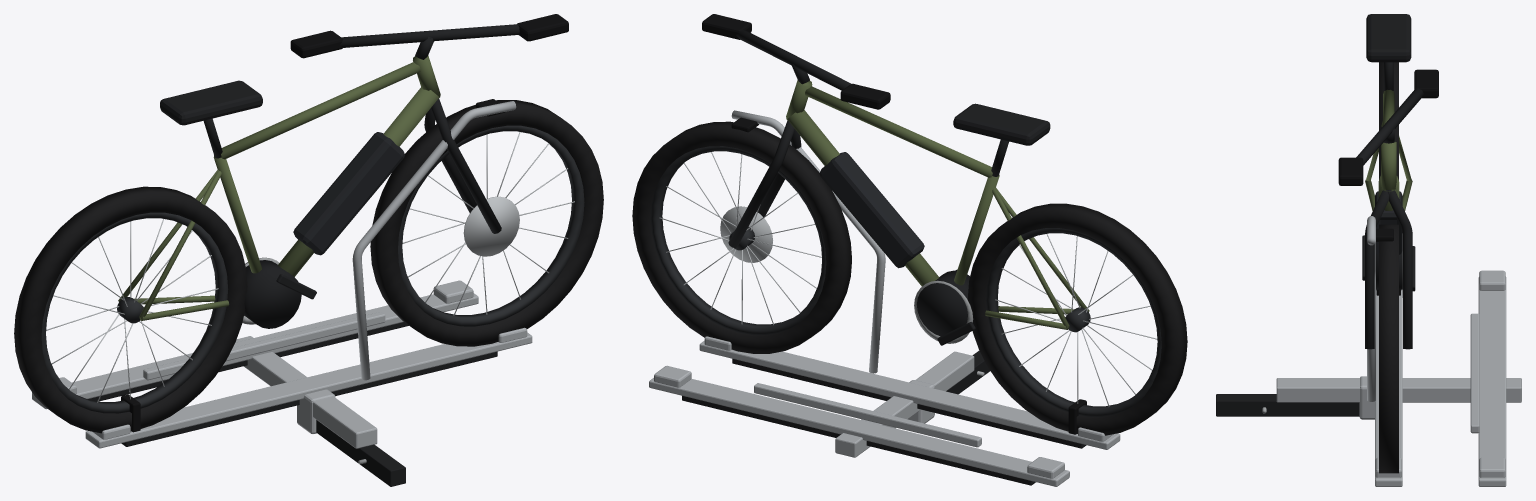
Rendered from carrier_kuat_nv2.glb.
3 views of the same model, side by side, from view 1: azimuth 30°, elevation 25°; view 2: azimuth 150°, elevation 25°; view 3: azimuth 270°, elevation 25° (orthographic). The views are drawn at different scales.
Parts seen in each view (by area): view 1: bike0RTyre.001, bike0FTyre.001, tray0.001, bike0Battery, bike0FRim.001, bike0RRim.001, tray1.001, arm0.001, spine.003, bike0Saddle.001, bike0Motor, bike0Top.001 (+16 smaller); view 2: bike0RTyre.001, bike0FTyre.001, tray1.001, tray0.001, bike0Battery, bike0FRim.001, bike0RRim.001, spine.003, armFolded1.001, bike0Saddle.001, bike0Motor, bike0Top.001 (+16 smaller); view 3: tray1.001, bike0FTyre.001, spine.003, shank.001, bike0Saddle.001, bike0Fork-1.001, tray0.001, bike0Fork1.001, armFolded1.001, bike0Bar.001, arm0.001, bike0RTyre.001 (+8 smaller).
Part boxes in pixels (x1,y1,x2,y2): bike0RTyre.001: (14,186,247,433); bike0FTyre.001: (370,100,603,346); tray0.001: (85,332,532,448); bike0Battery: (293,132,404,255); bike0FRim.001: (398,125,584,326); bike0RRim.001: (41,212,228,413); tray1.001: (32,293,478,409); arm0.001: (352,101,516,380); spine.003: (235,336,377,448); bike0Saddle.001: (160,80,262,125); bike0Motor: (244,260,301,328); bike0Top.001: (221,62,420,159); bike0RTyre.001: (968,203,1187,435); bike0FTyre.001: (632,121,851,353); tray1.001: (649,378,1069,486); tray0.001: (699,340,1120,449); bike0Battery: (819,152,924,268); bike0FRim.001: (650,146,826,335); bike0RRim.001: (986,228,1161,416); spine.003: (835,351,974,457); armFolded1.001: (754,383,981,447); bike0Saddle.001: (953,103,1050,145); bike0Motor: (916,270,969,336); bike0Top.001: (805,86,992,177); tray1.001: (1478,276,1506,486); bike0FTyre.001: (1379,224,1398,473); spine.003: (1276,378,1521,402); shank.001: (1216,394,1359,416); bike0Saddle.001: (1366,14,1411,62); bike0Fork-1.001: (1387,190,1412,349); tray0.001: (1375,289,1402,486); bike0Fork1.001: (1365,190,1390,349); armFolded1.001: (1470,313,1479,433); bike0Bar.001: (1356,88,1423,165); arm0.001: (1367,216,1375,401); bike0RTyre.001: (1379,62,1398,180).
Size of the model in its own units: 1.87 by 1.11 by 0.885.
